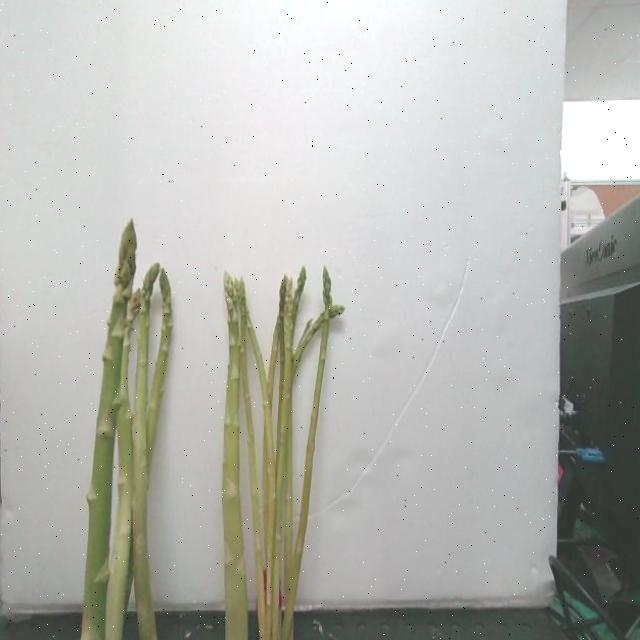aspargus: (81, 220, 139, 640)
